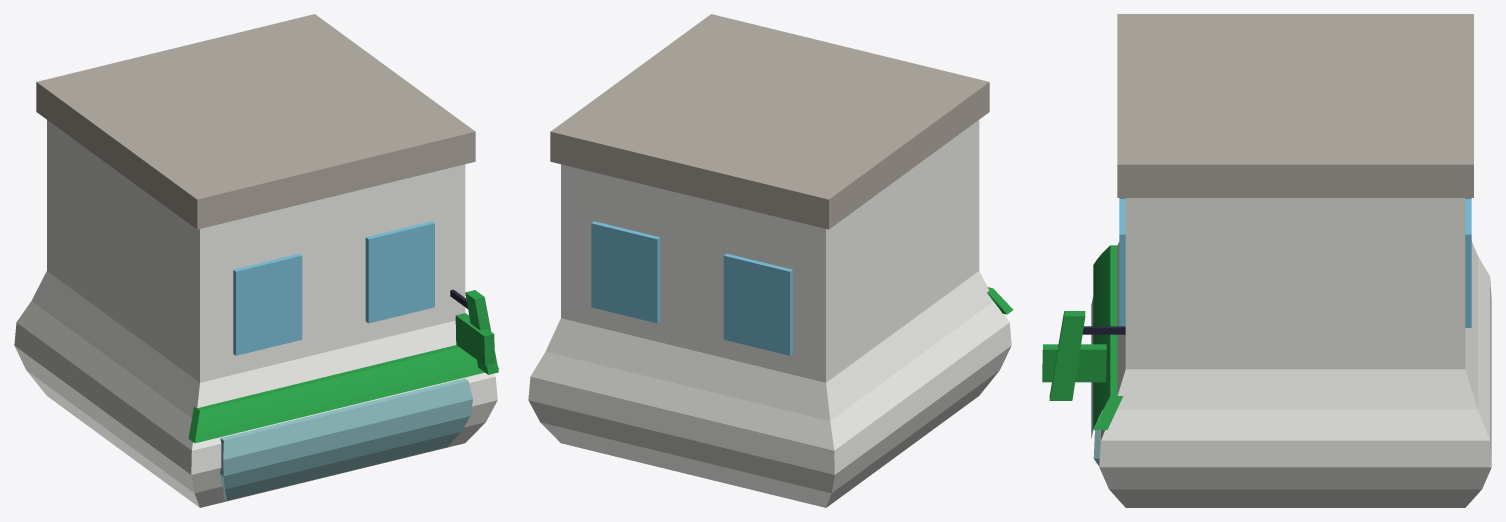
File: pharmacy.glb
3 renders of one model, left to right at view 1: azimuth 30°, elevation 25°; view 2: azimuth 150°, elevation 25°; view 3: azimuth 270°, elevation 25°, orthographic. The views are drawn at different scales.
Visible parts, largest first — view 1: pharmacy_offwhite, pharmacy_roof_flat, pharmacy_glass, pharmacy_window, pharmacy_green_cross; view 2: pharmacy_offwhite, pharmacy_roof_flat, pharmacy_window; view 3: pharmacy_offwhite, pharmacy_roof_flat, pharmacy_green_cross, pharmacy_window.
Boxes of the visible parts, x1,y1,x2,y2 form: pharmacy_offwhite: [14, 120, 497, 507]; pharmacy_roof_flat: [36, 14, 475, 229]; pharmacy_glass: [220, 378, 472, 500]; pharmacy_window: [233, 221, 434, 355]; pharmacy_green_cross: [188, 290, 499, 443]; pharmacy_offwhite: [528, 120, 1011, 507]; pharmacy_roof_flat: [550, 14, 989, 229]; pharmacy_window: [591, 221, 792, 355]; pharmacy_offwhite: [1099, 198, 1491, 507]; pharmacy_roof_flat: [1117, 14, 1473, 197]; pharmacy_green_cross: [1042, 245, 1123, 429]; pharmacy_window: [1119, 198, 1471, 327].
Size of the model in its own units: 9.61 by 9.38 by 11.01.
